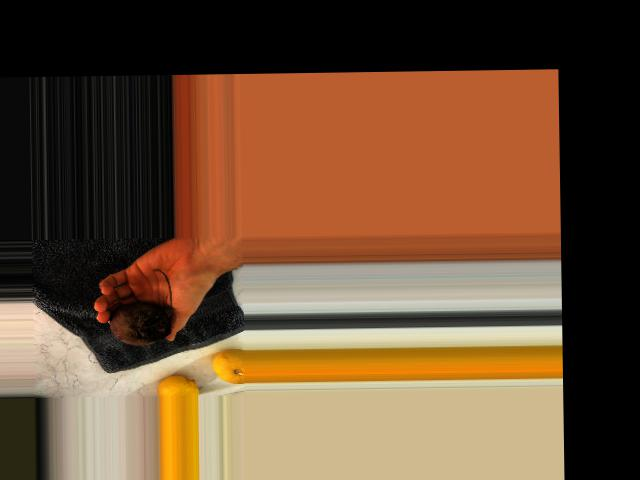beet: (107, 269, 170, 346)
